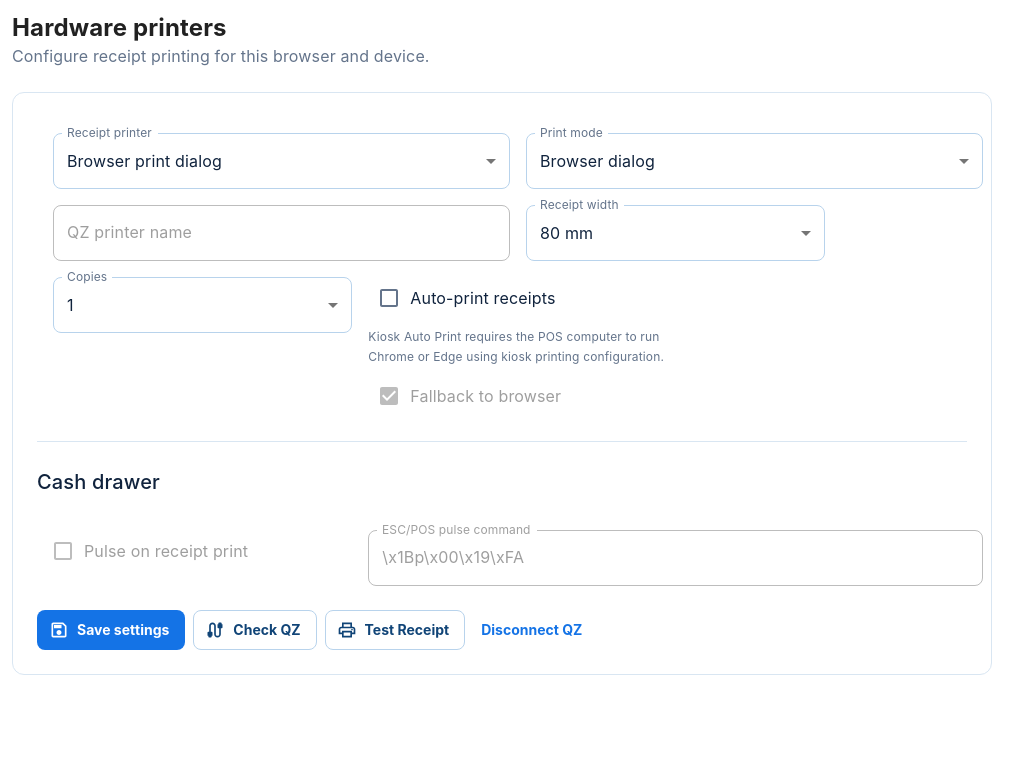
Test: PrinterSettingsPage › saves browser fallback printer settings
This screenshot has width=1009, height=772.
Click the checkbox labelled "Auto-print receipts": (466, 298) [377,286,556,310]
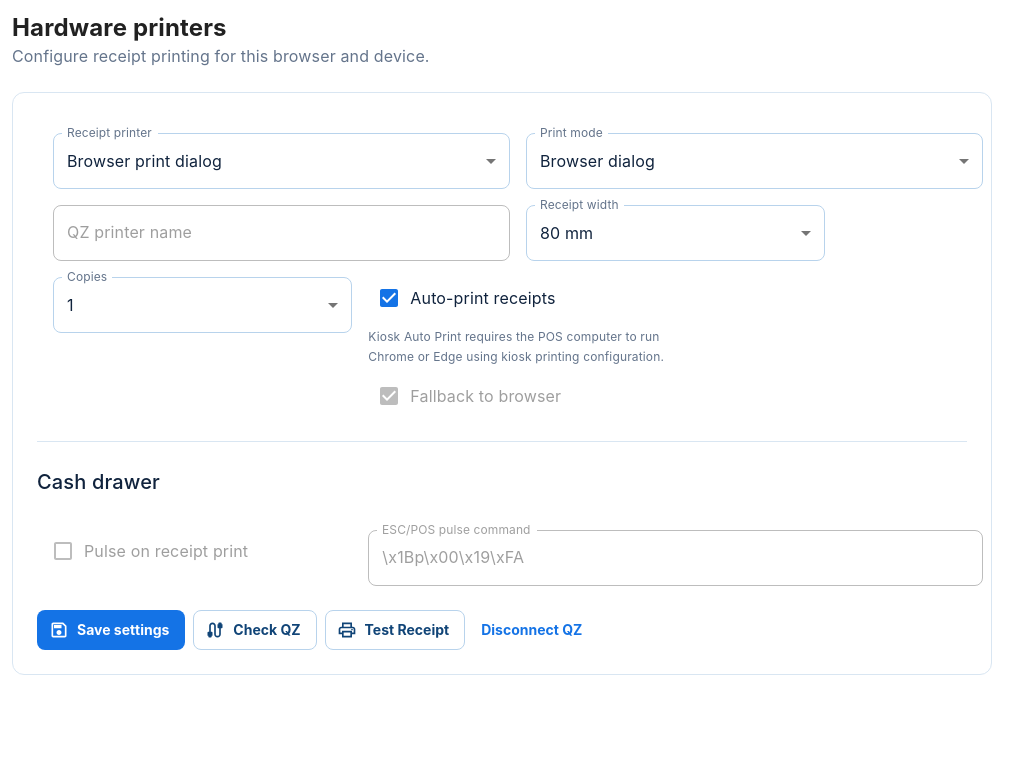
Click the dropdown named "Receipt width": (567, 232) [540,222,593,242]
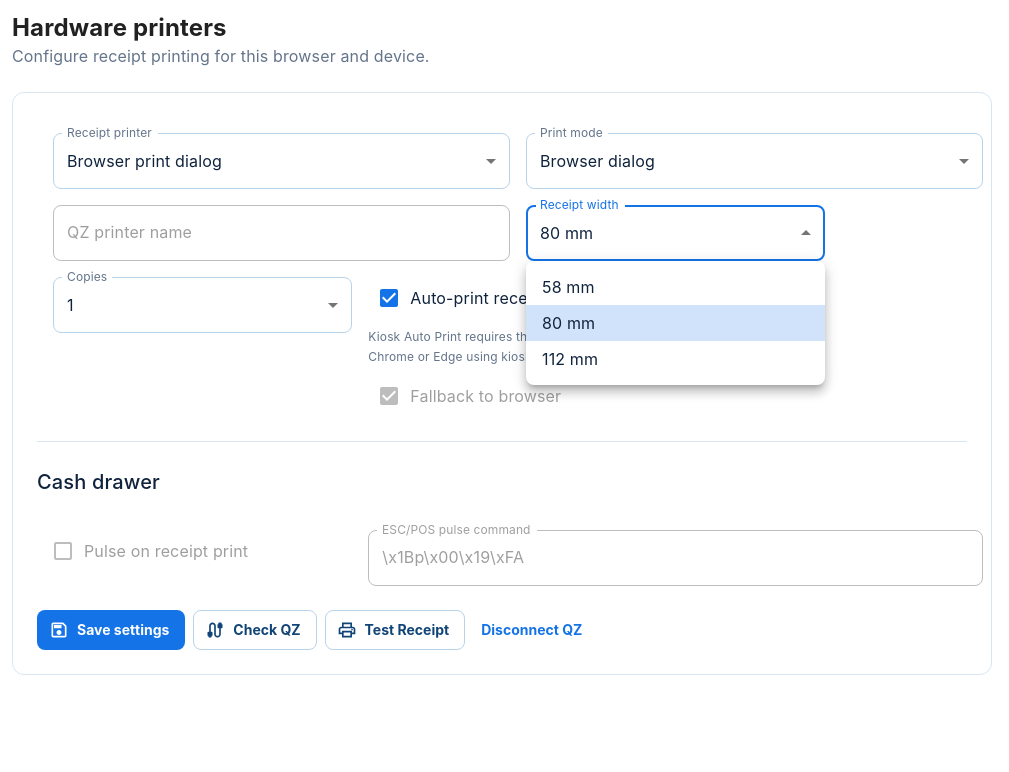
Click the option "112 mm": (570, 359) [542,349,598,369]
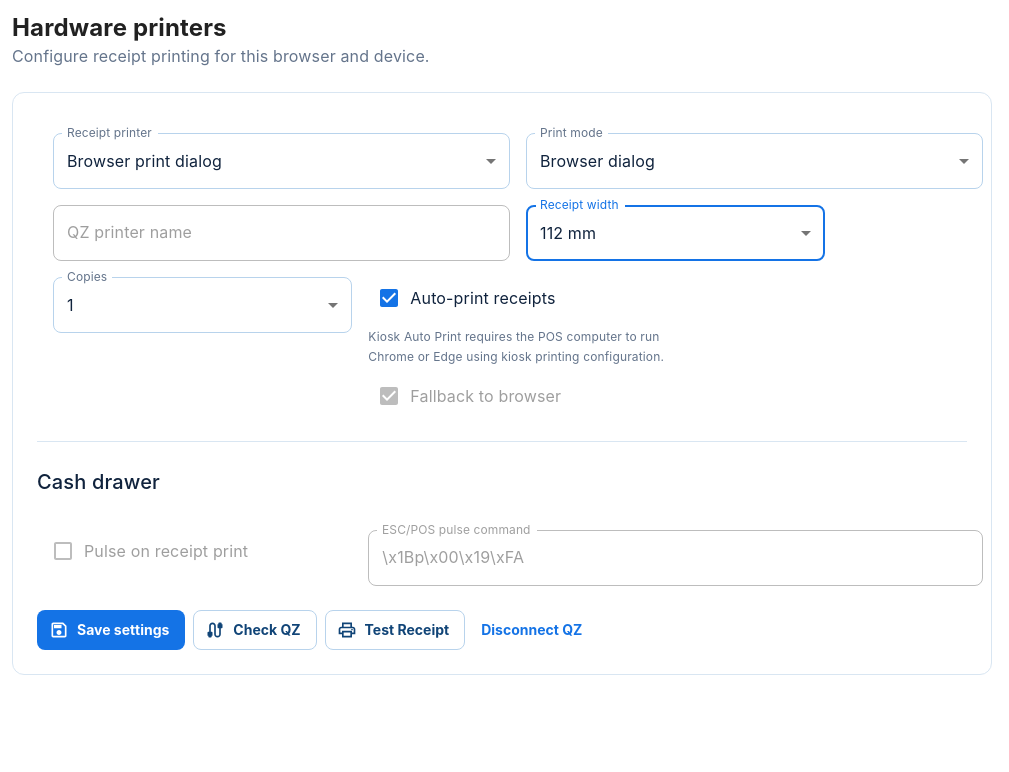
Click the dropdown named "Copies": (70, 304) [67,294,74,314]
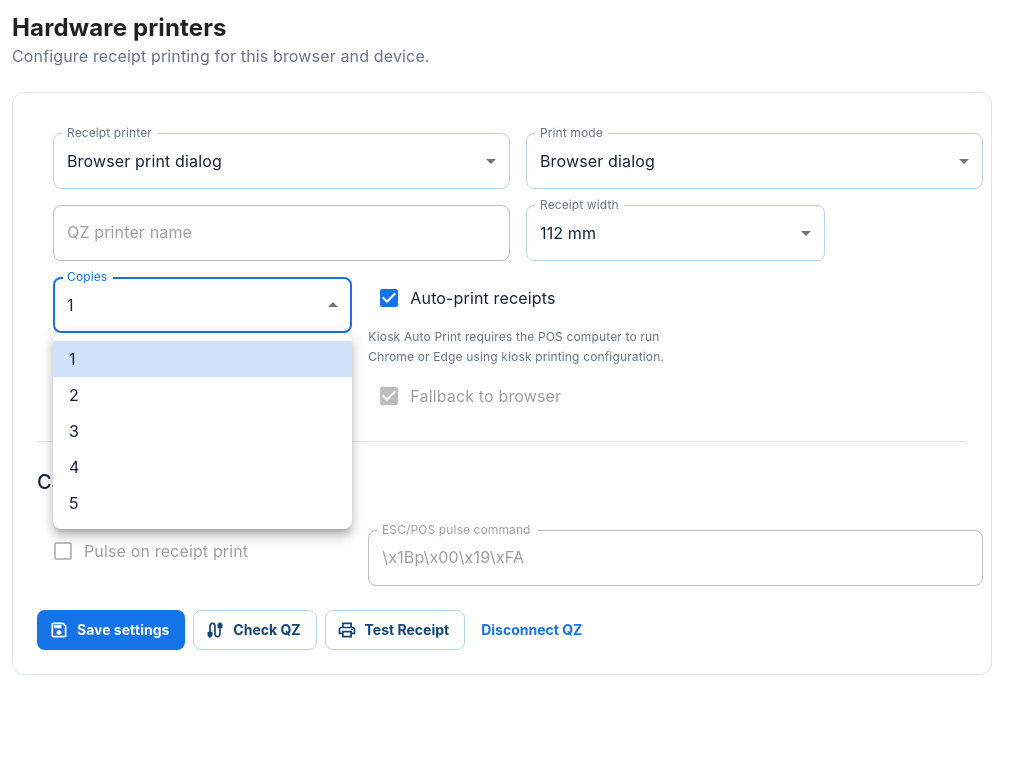
Click the option "3": (74, 431) [69,421,79,441]
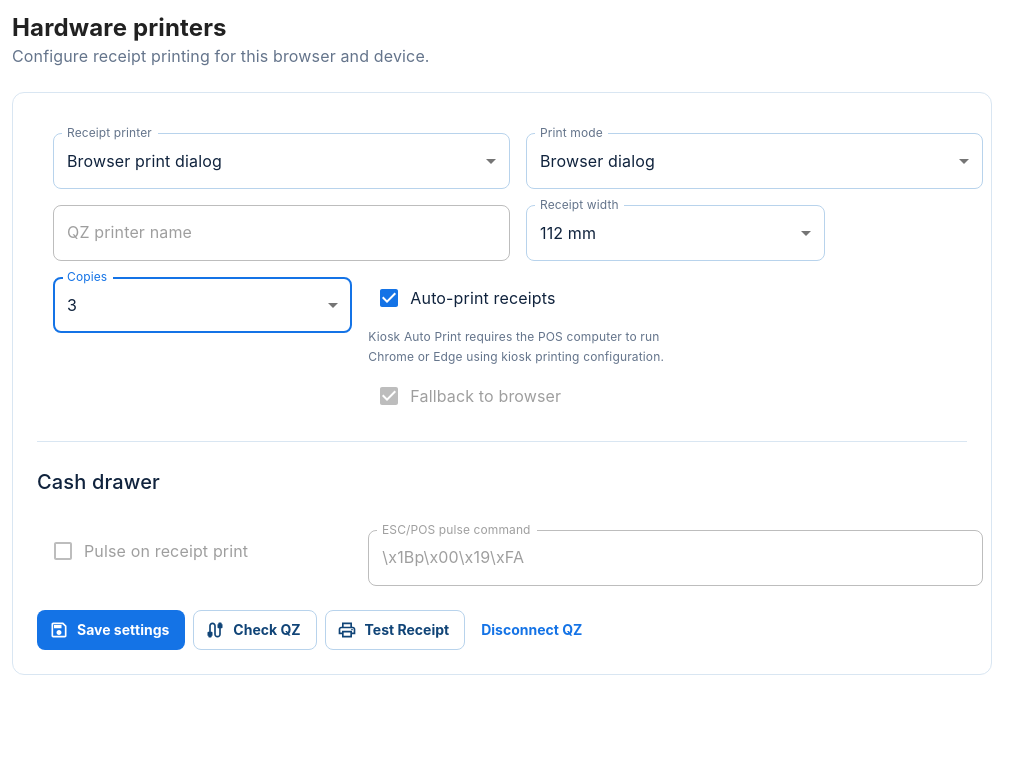
Click the button "Save settings": (111, 630) [37,610,185,650]
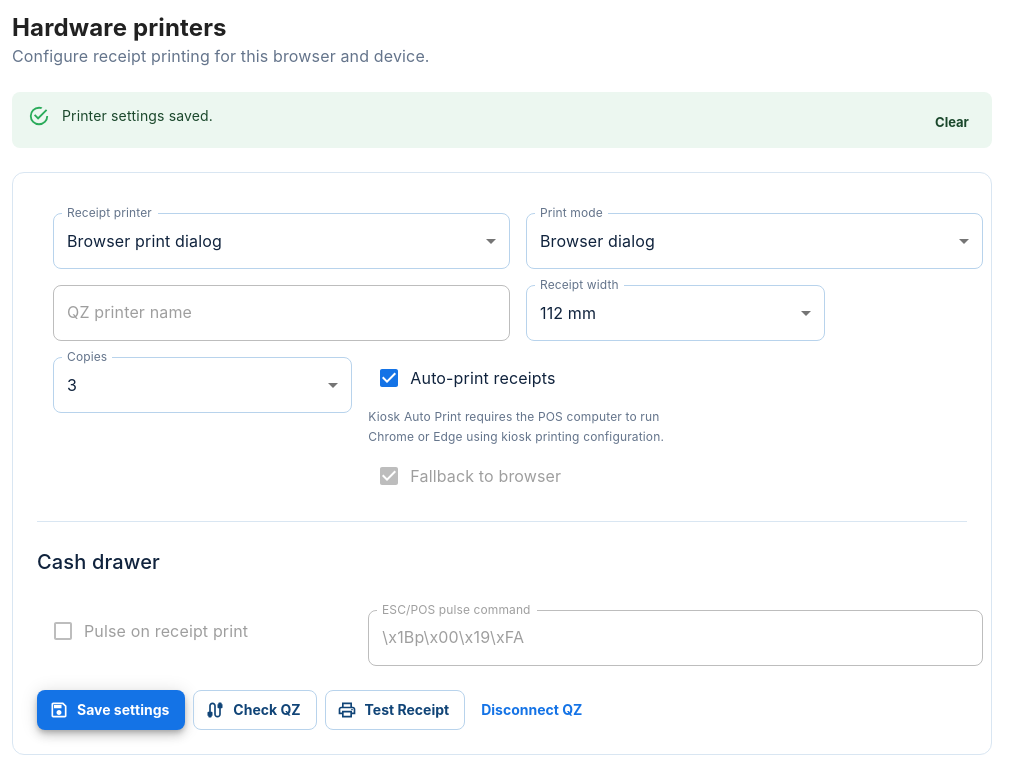
Expected: the text "Printer settings saved." is shown, [62,107,213,124]
